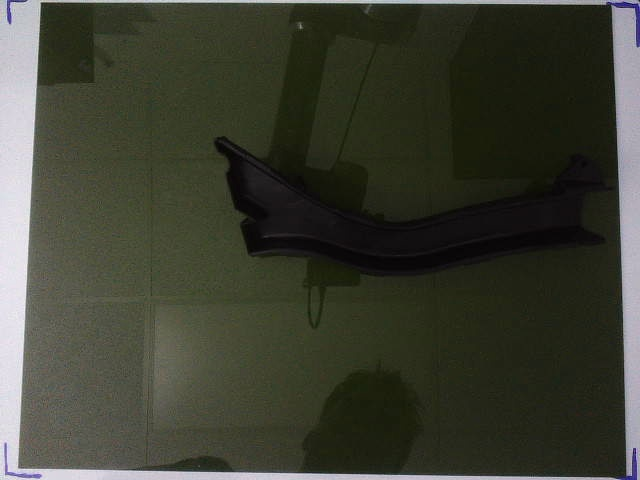887_A-Under: (214, 136, 611, 275)
